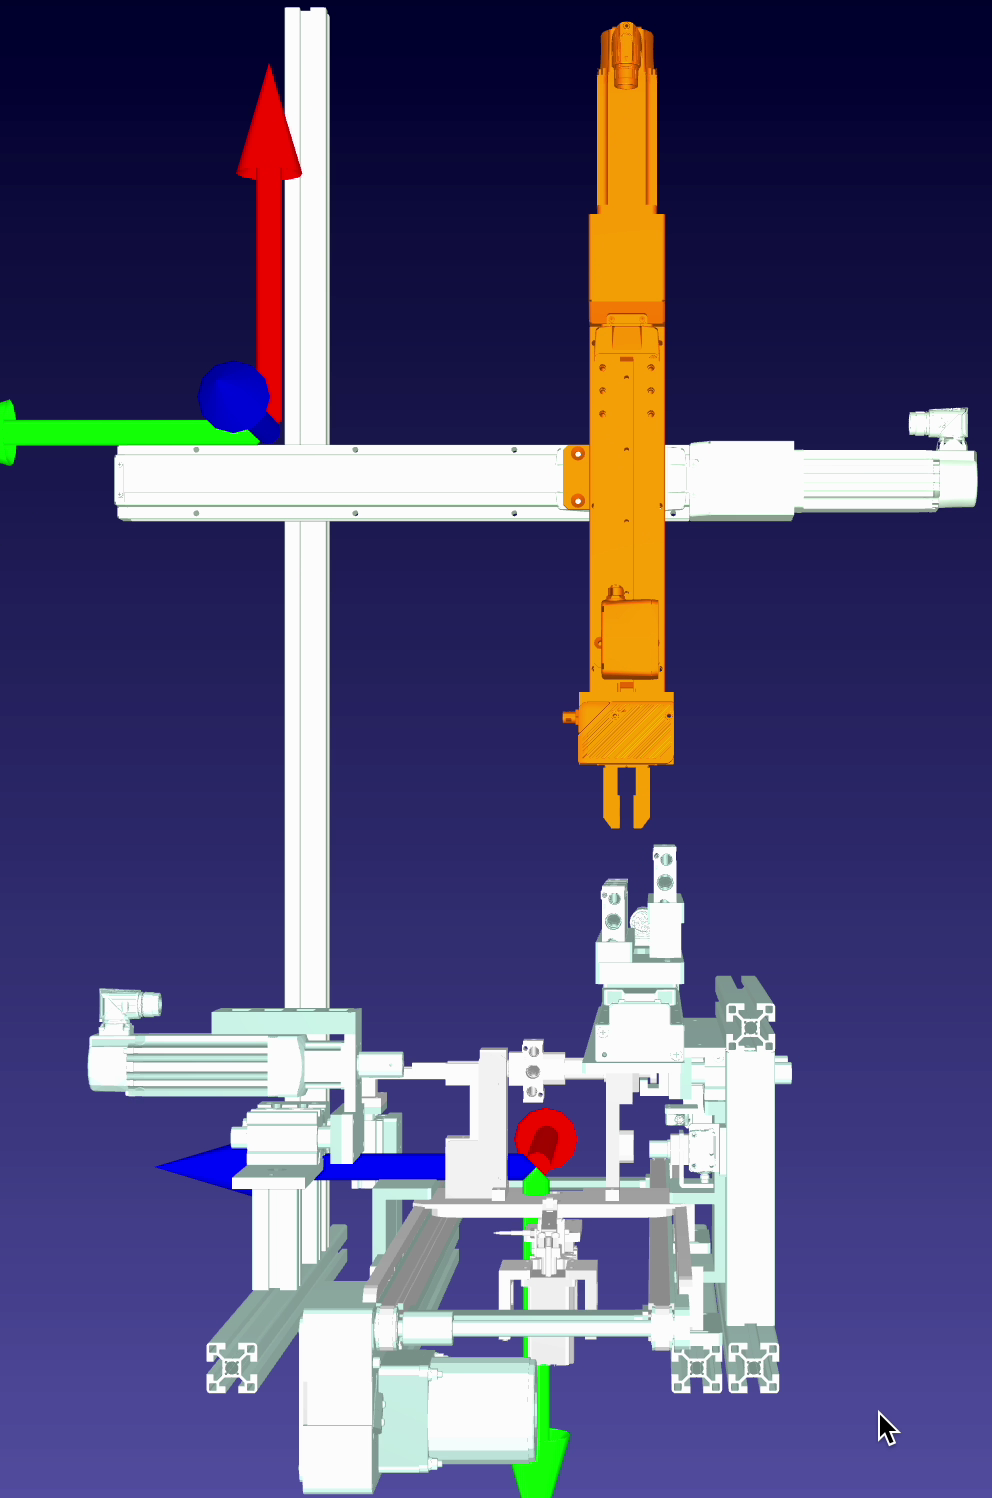Gripper: (549, 678, 688, 820)
